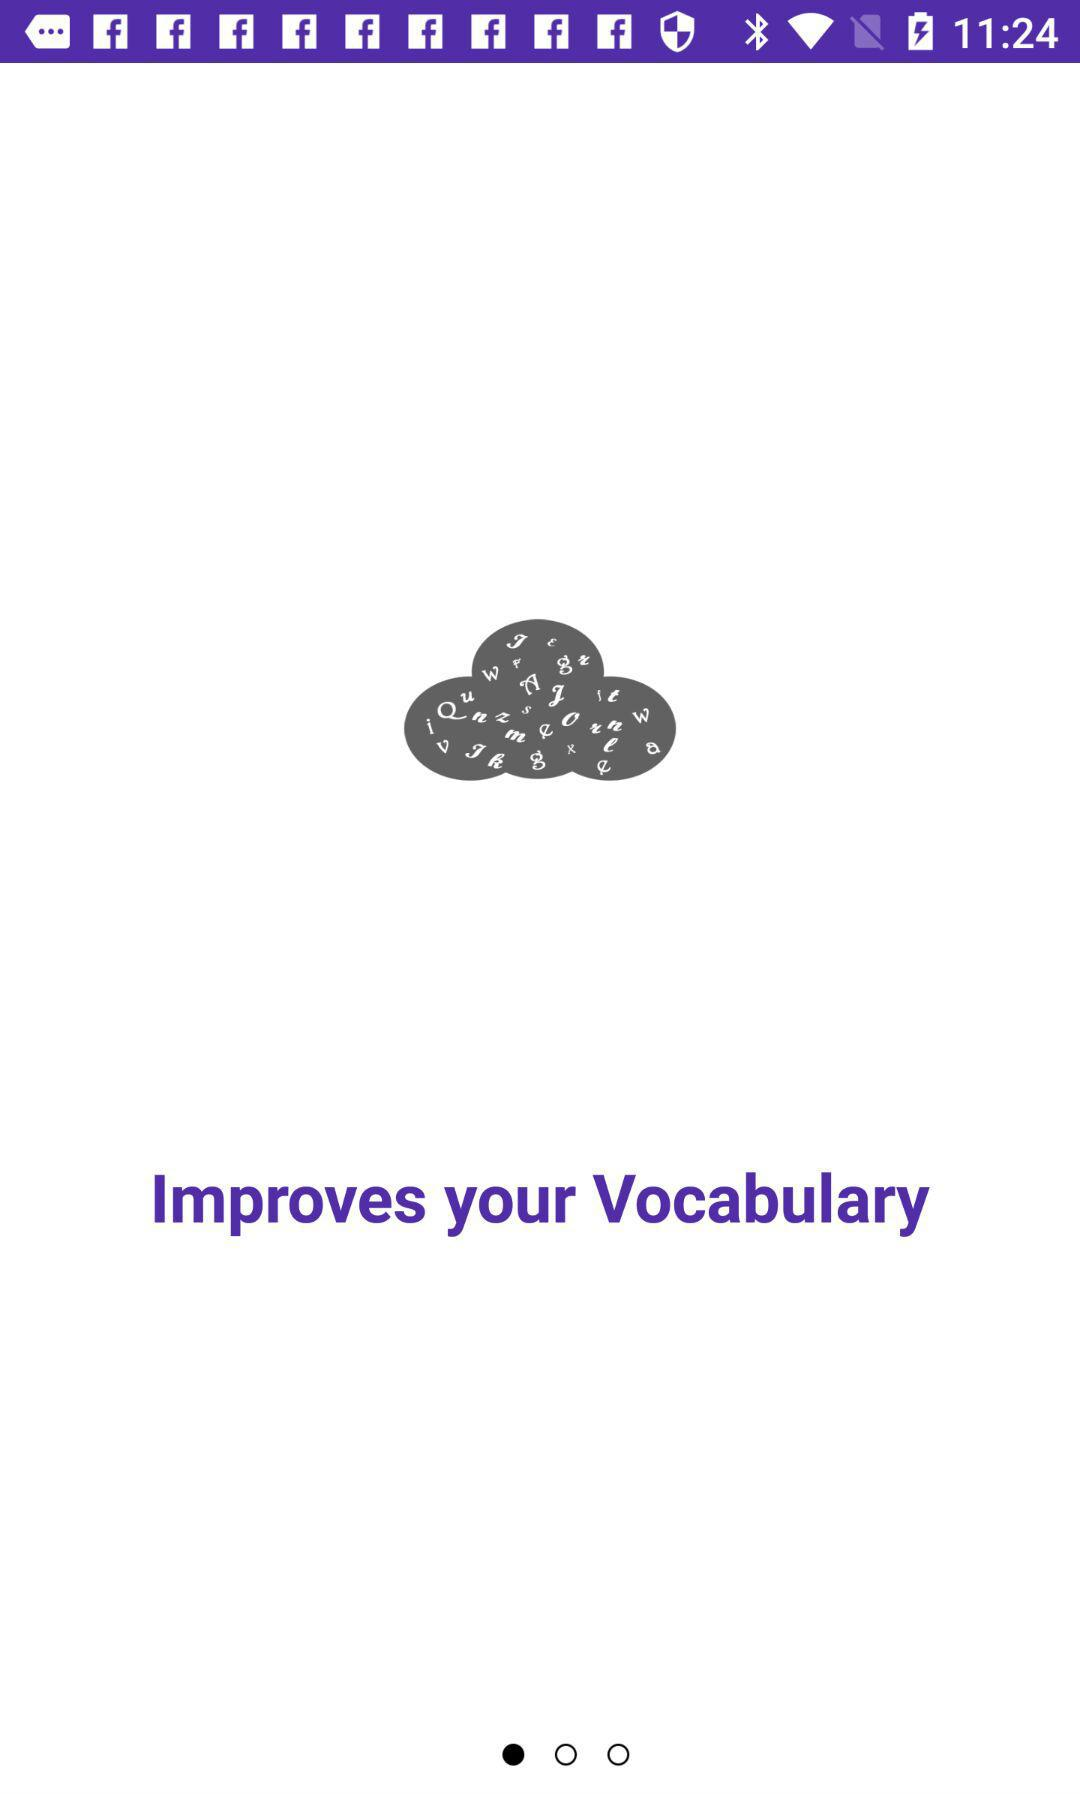Image: (404, 618, 676, 783)
PageIndicator: (501, 1741, 632, 1768)
Text: (154, 1171, 931, 1239)
UpperTaskBar: (1, 1, 1080, 64)
